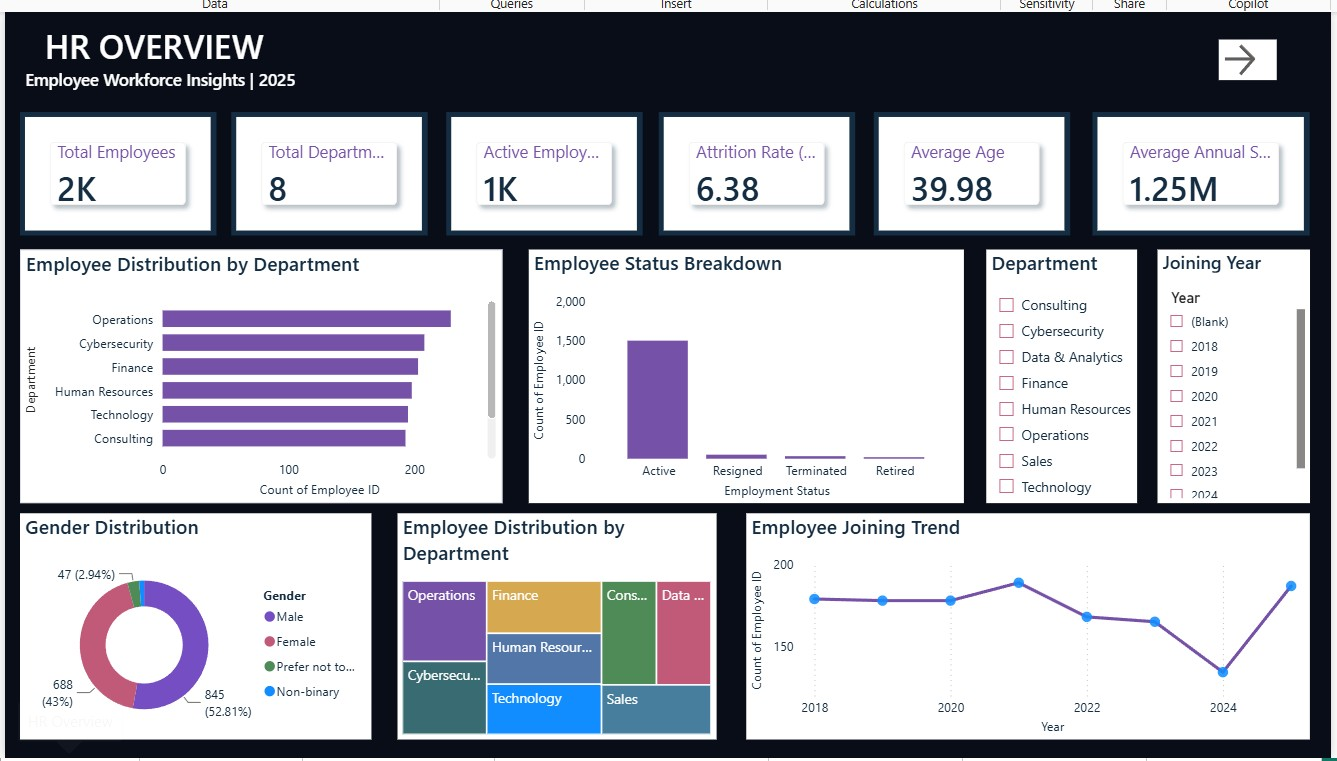

Layout of this report page (visuals, bound fields, positions):
{"tool":"powerbi","page":{"name":"HR Overview","canvas":[1280,720],"ordinal":0},"visuals":[{"type":"cardVisual","fields":{"Data":["Employee_Master_Raw.Total Employees"]},"box":[14.5,96.5,189.4,119.4],"z":0},{"type":"cardVisual","fields":{"Data":["Employee_Master_Raw.Total Departments"]},"box":[218.4,96.5,189.4,119.4],"z":1000},{"type":"cardVisual","fields":{"Data":["Employee_Master_Raw.Active Employees"]},"box":[425.9,96.5,189.4,119.4],"z":2000},{"type":"cardVisual","fields":{"Data":["Employee_Master_Raw.Average Age"]},"box":[838.5,96.5,189.4,119.4],"z":3000},{"type":"cardVisual","fields":{"Data":["Employee_Master_Raw.Attrition Rate (%)"]},"box":[631,96.5,189.4,119.4],"z":4000},{"type":"cardVisual","fields":{"Data":["Employee_Master_Raw.Average Annual Salary"]},"box":[1049.6,96.5,209.9,119.4],"z":5000},{"type":"textbox","title":"HR OVERVIEW","box":[14.5,10.9,259.4,38.6],"z":6000},{"type":"textbox","box":[14.5,49.5,275.1,33.8],"z":7000},{"type":"clusteredBarChart","title":"Employee Distribution by Department","fields":{"Y":["Count(Employee_Master_Raw.Employee ID)"],"Category":["Employee_Master_Raw.Department"]},"box":[14.5,229.2,465.7,244.9],"z":8000},{"type":"clusteredColumnChart","title":"Employee Status Breakdown","fields":{"Y":["Count(Employee_Master_Raw.Employee ID)"],"Category":["Employee_Master_Raw.Employment Status"]},"box":[505.5,229.2,419.8,244.9],"z":9000},{"type":"donutChart","title":"Gender Distribution","fields":{"Y":["Count(Employee_Master_Raw.Employee ID)"],"Category":["Employee_Master_Raw.Gender"]},"box":[14.5,483.8,339,218.4],"z":10000},{"type":"treemap","title":"Employee Distribution by Department","fields":{"Group":["Employee_Master_Raw.Department"],"Values":["Count(Employee_Master_Raw.Employee ID)"]},"box":[378.8,483.8,307.6,218.4],"z":11000},{"type":"lineChart","title":"Employee Joining Trend","fields":{"Category":["Employee_Master_Raw.Date of Joining.Variation.Date Hierarchy.Year","Employee_Master_Raw.Date of Joining.Variation.Date Hierarchy.Month"],"Y":["CountNonNull(Employee_Master_Raw.Employee ID)"]},"box":[715.4,483.8,544.1,218.4],"z":12000},{"type":"slicer","title":"Department","fields":{"Values":["Employee_Master_Raw.Department"]},"box":[947.1,229.2,146,244.9],"z":13000},{"type":"slicer","title":"Joining Year","fields":{"Values":["Employee_Master_Raw.Date of Joining.Variation.Date Hierarchy.Year"]},"box":[1112.3,229.2,147.2,244.9],"z":14000},{"type":"actionButton","box":[1171.5,26.8,56.2,39.6],"z":15000}]}

Visuals, with their boxes in screenshot pixels (x1, y1, x2, y2):
cardVisual - Employee_Master_Raw.Total Employees: bbox(22, 110, 217, 233)
cardVisual - Employee_Master_Raw.Total Departments: bbox(232, 110, 427, 233)
cardVisual - Employee_Master_Raw.Active Employees: bbox(446, 110, 641, 233)
cardVisual - Employee_Master_Raw.Average Age: bbox(871, 110, 1066, 233)
cardVisual - Employee_Master_Raw.Attrition Rate (%): bbox(657, 110, 852, 233)
cardVisual - Employee_Master_Raw.Average Annual Salary: bbox(1088, 110, 1304, 233)
"HR OVERVIEW" textbox: bbox(22, 22, 289, 61)
textbox: bbox(22, 61, 305, 96)
"Employee Distribution by Department" clusteredBarChart: bbox(22, 247, 502, 499)
"Employee Status Breakdown" clusteredColumnChart: bbox(528, 247, 960, 499)
"Gender Distribution" donutChart: bbox(22, 509, 371, 734)
"Employee Distribution by Department" treemap: bbox(397, 509, 714, 734)
"Employee Joining Trend" lineChart: bbox(744, 509, 1304, 734)
"Department" slicer: bbox(983, 247, 1133, 499)
"Joining Year" slicer: bbox(1153, 247, 1304, 499)
actionButton: bbox(1214, 38, 1272, 79)
